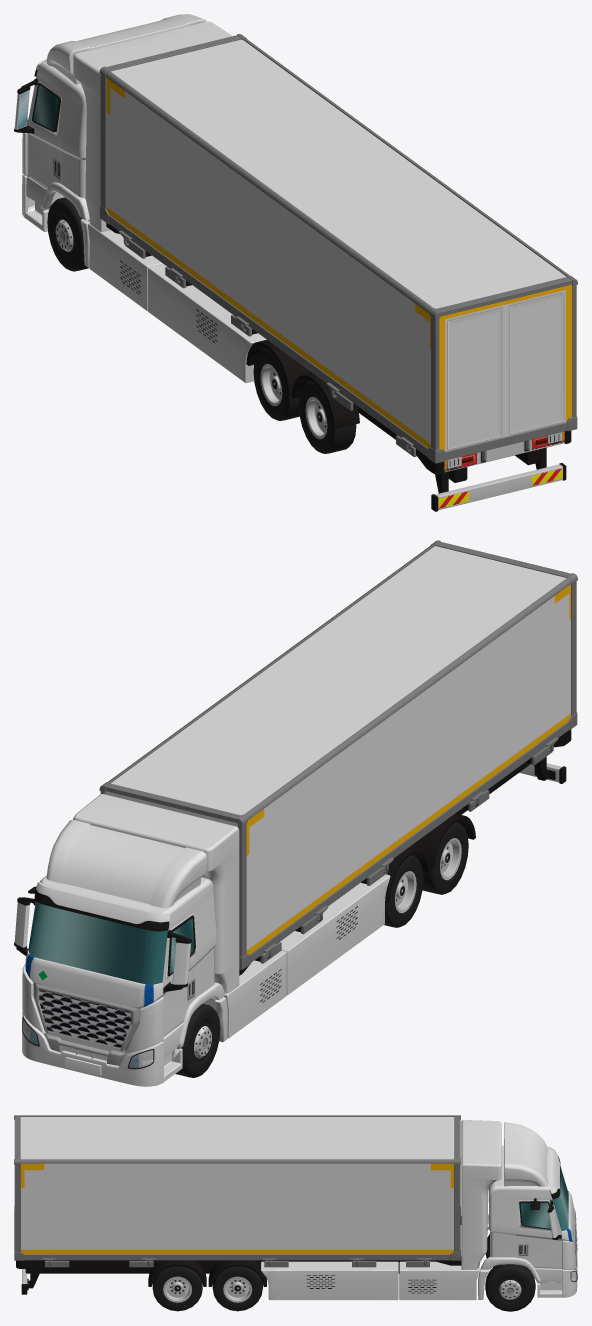
The model's file is HY_Truck_1.glb.
3 renders of one model, top to bottom at view 1: azimuth 30°, elevation 25°; view 2: azimuth 150°, elevation 25°; view 3: azimuth 270°, elevation 25°, orthographic. The views are drawn at different scales.
Visible parts, largest first — view 1: HY_Truck_1; view 2: HY_Truck_1; view 3: HY_Truck_1.
Boxes of the visible parts, left/top/right/bottom form: HY_Truck_1: left=14, top=14, right=577, bottom=511; HY_Truck_1: left=14, top=540, right=577, bottom=1086; HY_Truck_1: left=14, top=1115, right=577, bottom=1311.
Bounding box in the file's own units: 3.26 × 4.13 × 13.78.
3 materials, 3 textured.
